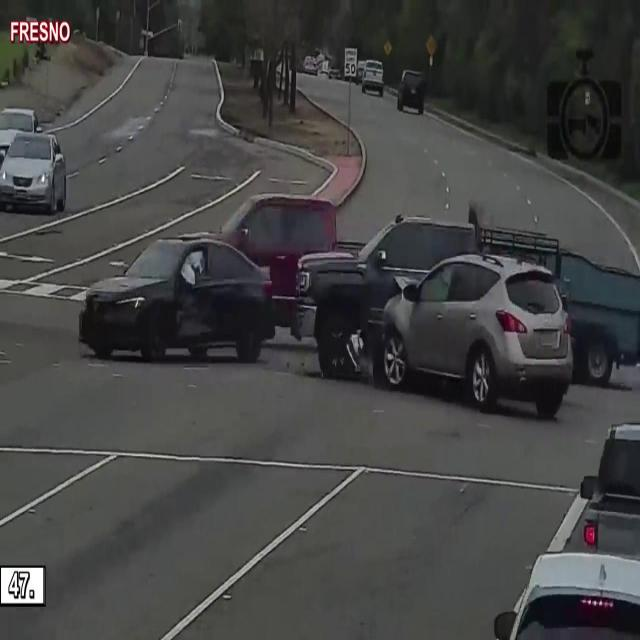accident: (288, 200, 572, 424), (72, 203, 270, 394)
